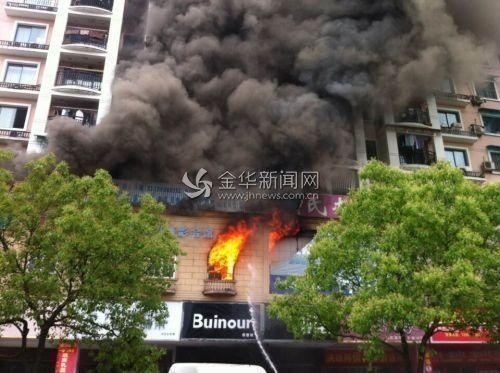fire: (207, 218, 253, 278), (264, 212, 295, 251)
